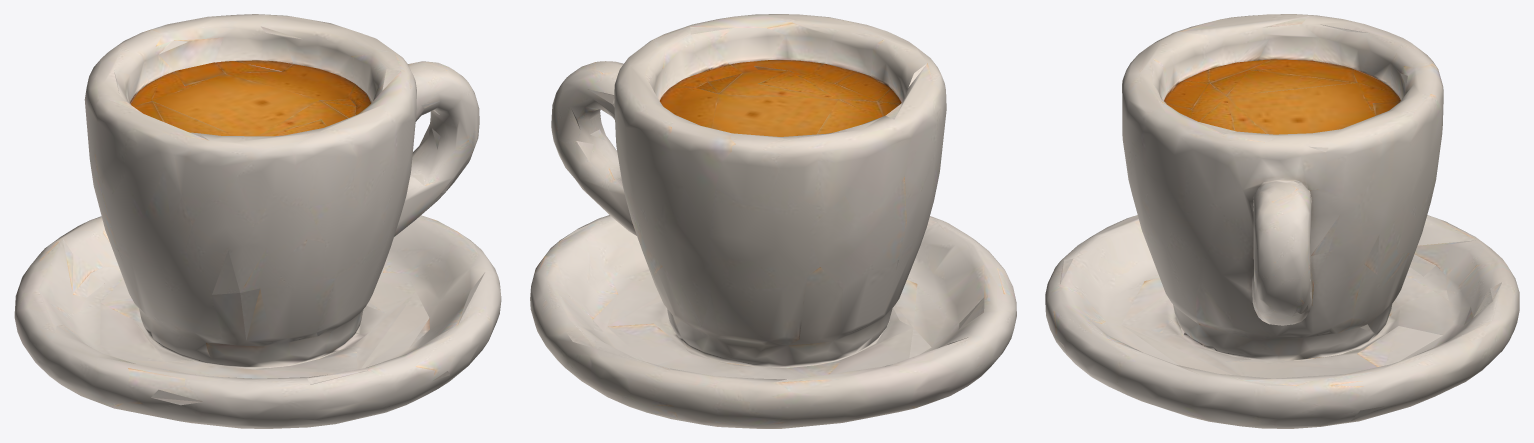
The model's file is cup_espresso.gltf.
The picture shows the model from 3 angles, left to right: view 1: azimuth 30°, elevation 25°; view 2: azimuth 150°, elevation 25°; view 3: azimuth 270°, elevation 25°; orthographic projection.
Parts seen in each view (by area): view 1: cup_espresso; view 2: cup_espresso; view 3: cup_espresso.
Boxes of the visible parts, x1,y1,x2,y2 form: cup_espresso: (14,14,501,428); cup_espresso: (530,14,1016,428); cup_espresso: (1045,14,1519,428).
Size of the model in its own units: 1 by 0.6025 by 0.9717.
Materials: 1 (1 with a texture image).
